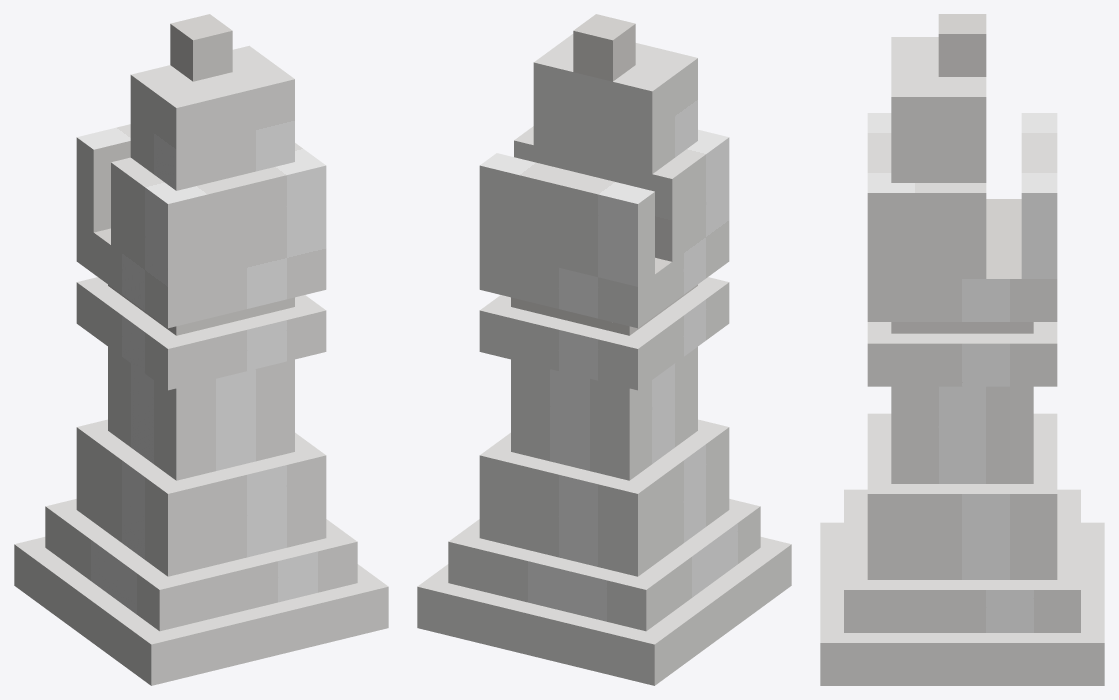
Rendered from bishop.gltf.
3 renders of one model, left to right at view 1: azimuth 30°, elevation 25°; view 2: azimuth 150°, elevation 25°; view 3: azimuth 270°, elevation 25°, orthographic. The views are drawn at different scales.
Visible parts, largest first — view 1: cube (×10); view 2: cube (×10); view 3: cube (×10).
Part boxes in pixels (<box>): cube (×10): <box>14,14,388,685</box>; cube (×10): <box>417,14,791,685</box>; cube (×10): <box>820,14,1104,685</box>.
Bounding box in the file's own units: 0.375 × 0.875 × 0.375.
1 material, 1 textured.
